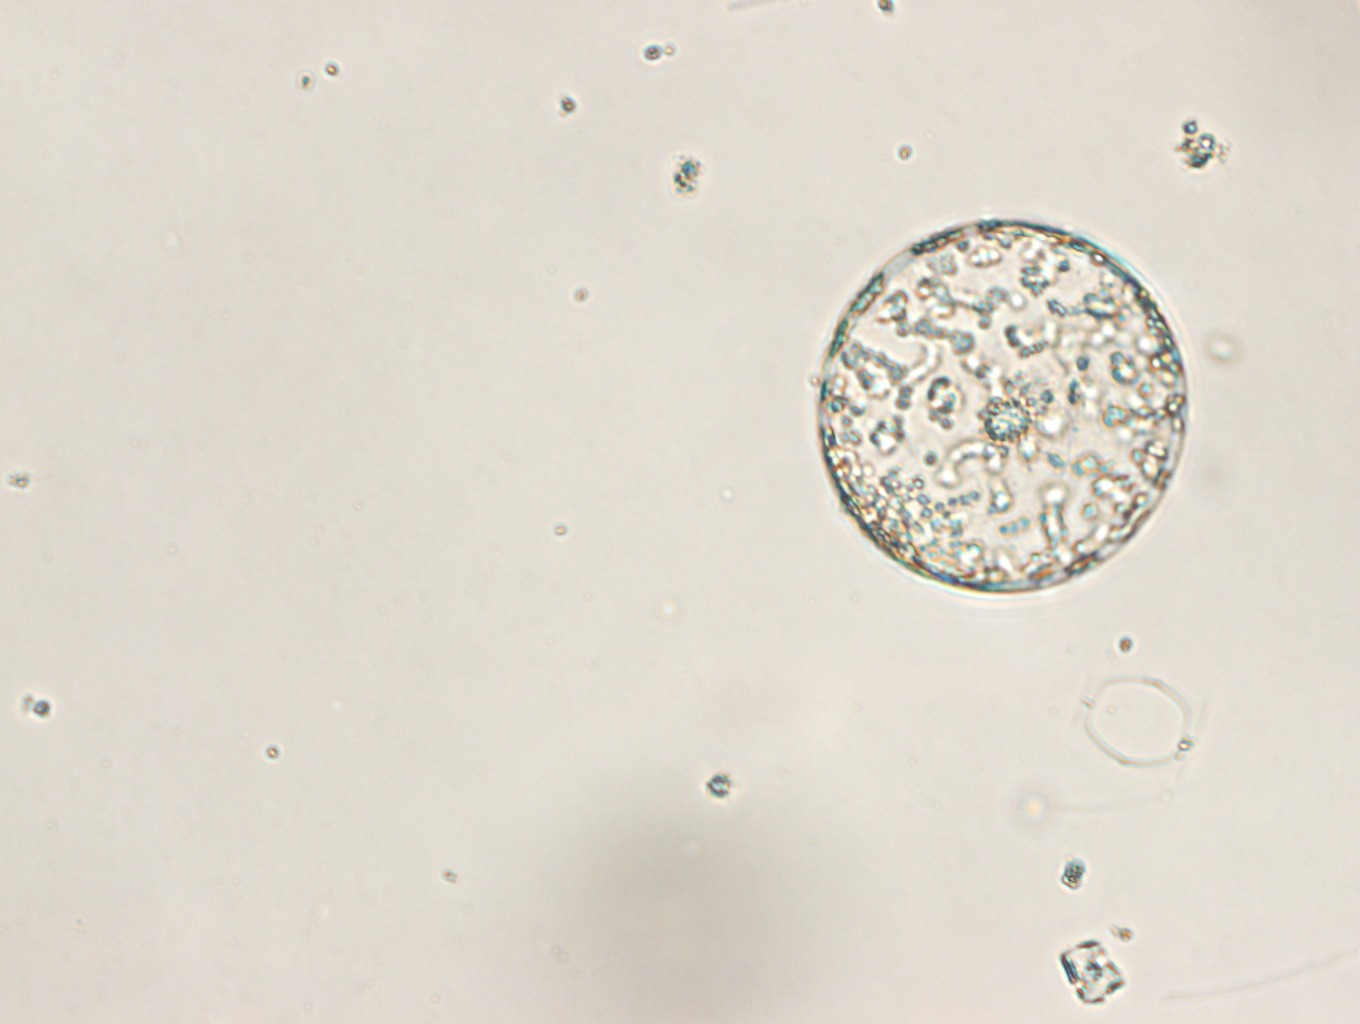coscinodiscus: (818, 225, 1190, 595)
